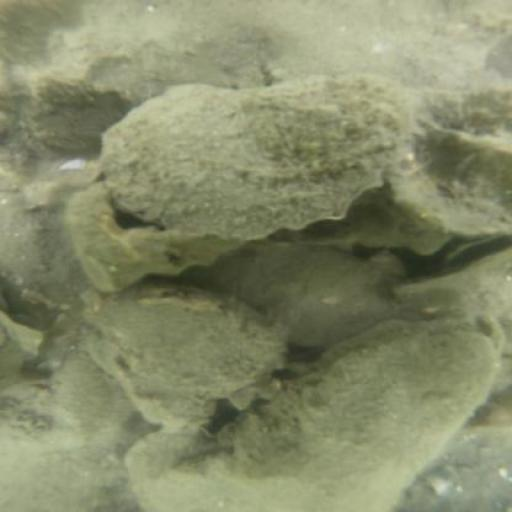Oyster-Closed: (101, 78, 419, 239), (230, 322, 492, 502), (90, 297, 287, 423), (203, 248, 399, 348)
Oyster-Open: (439, 232, 506, 272)
